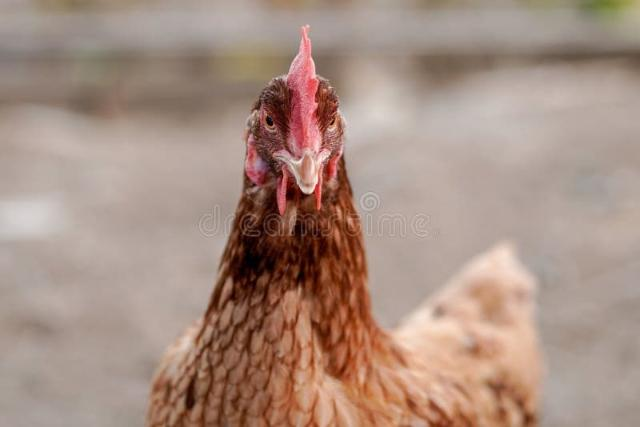Chicken: (148, 25, 540, 426)
